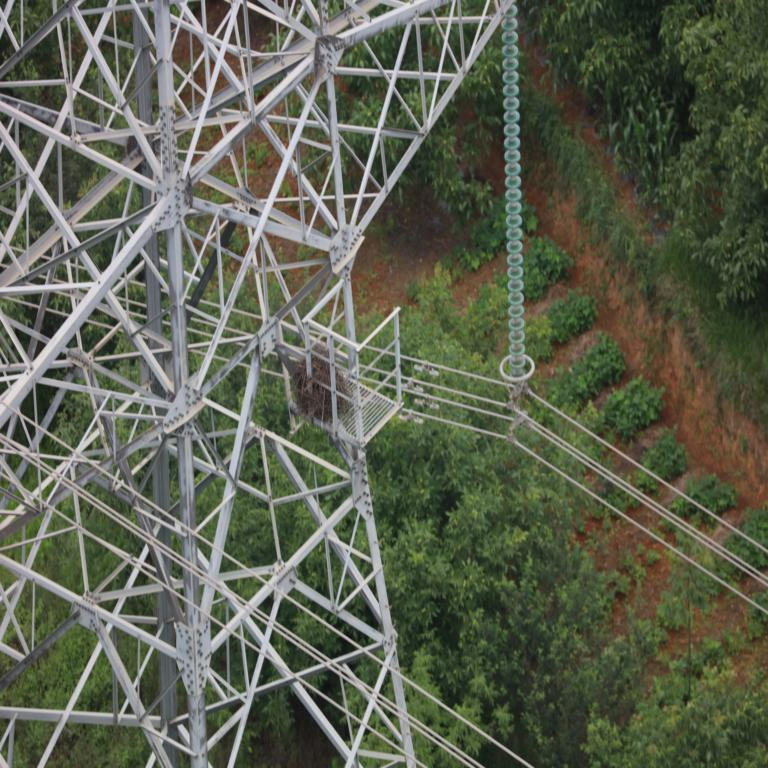nest: (289, 362, 344, 419)
